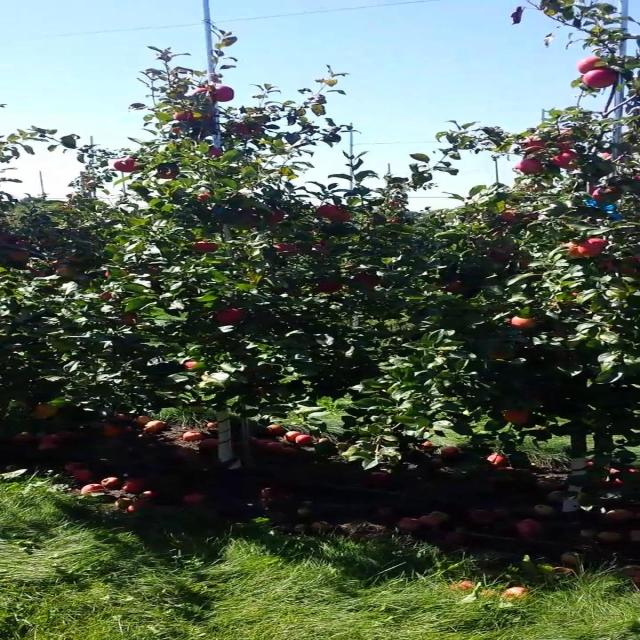apple: (569, 238, 609, 258), (582, 68, 618, 89), (589, 186, 622, 205), (551, 150, 578, 170), (553, 128, 576, 151), (487, 244, 516, 262), (616, 256, 640, 277), (213, 309, 244, 325), (513, 158, 544, 174), (353, 271, 382, 288), (233, 210, 260, 228), (113, 156, 142, 172), (520, 135, 547, 152), (211, 84, 236, 102), (576, 56, 602, 73), (502, 410, 531, 425), (231, 122, 262, 136), (324, 206, 351, 222), (31, 404, 58, 419), (562, 241, 584, 258), (511, 316, 536, 330), (53, 264, 78, 278), (444, 280, 469, 294), (316, 204, 340, 218), (156, 165, 180, 179), (191, 240, 218, 252), (0, 234, 27, 246), (487, 348, 516, 359), (187, 110, 213, 122), (498, 209, 520, 223), (264, 209, 284, 224), (7, 250, 31, 262), (553, 134, 571, 150), (0, 230, 20, 244), (273, 242, 298, 253), (318, 281, 342, 292), (120, 312, 138, 325), (187, 86, 209, 96), (182, 360, 204, 370), (596, 259, 616, 270), (207, 145, 224, 157), (173, 111, 193, 121), (196, 191, 213, 202), (64, 254, 84, 263), (31, 268, 51, 276), (518, 256, 531, 268), (98, 291, 113, 300), (598, 152, 613, 160), (147, 265, 160, 274), (171, 125, 182, 135), (618, 155, 627, 161)
